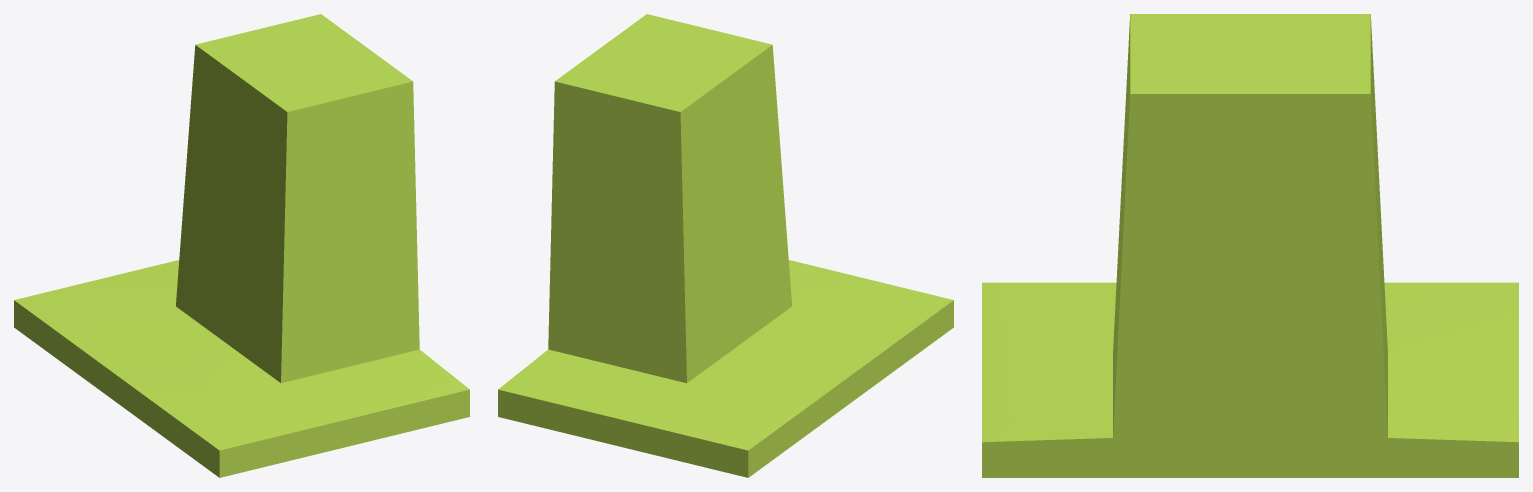
File: hood_convex.fbx
The picture shows the model from 3 angles, left to right: view 1: azimuth 30°, elevation 25°; view 2: azimuth 150°, elevation 25°; view 3: azimuth 270°, elevation 25°; orthographic projection. The views are drawn at different scales.
Visible parts, largest first — view 1: hood_convex.002, hood_convex; view 2: hood_convex.002, hood_convex; view 3: hood_convex.002, hood_convex.
Part boxes in pixels (<box>): hood_convex.002: <box>176,14,419,383</box>; hood_convex: <box>14,260,469,477</box>; hood_convex.002: <box>548,14,791,383</box>; hood_convex: <box>498,260,953,477</box>; hood_convex.002: <box>1113,14,1387,437</box>; hood_convex: <box>982,282,1518,477</box>.
Size of the model in its own units: 12.52 by 17.81 by 14.05.
